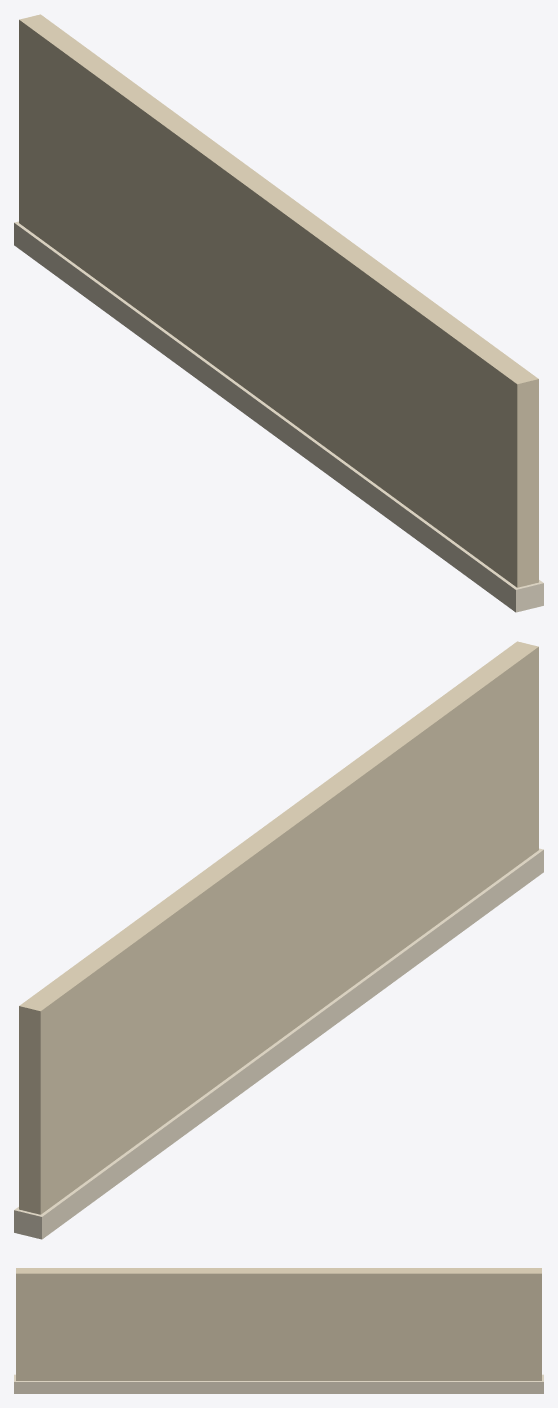
File: Mesh_Wall_Full_8M.fbx
The picture shows the model from 3 angles, top to bottom: view 1: azimuth 30°, elevation 25°; view 2: azimuth 150°, elevation 25°; view 3: azimuth 270°, elevation 25°; orthographic projection. The views are drawn at different scales.
Visible parts, largest first — view 1: Wall_Centre_room_long_8M; view 2: Wall_Centre_room_long_8M; view 3: Wall_Centre_room_long_8M.
Boxes of the visible parts, x1,y1,x2,y2 form: Wall_Centre_room_long_8M: (14, 14, 543, 612); Wall_Centre_room_long_8M: (14, 641, 543, 1239); Wall_Centre_room_long_8M: (14, 1268, 543, 1393).
Size of the model in its own units: 26 by 200 by 804.
